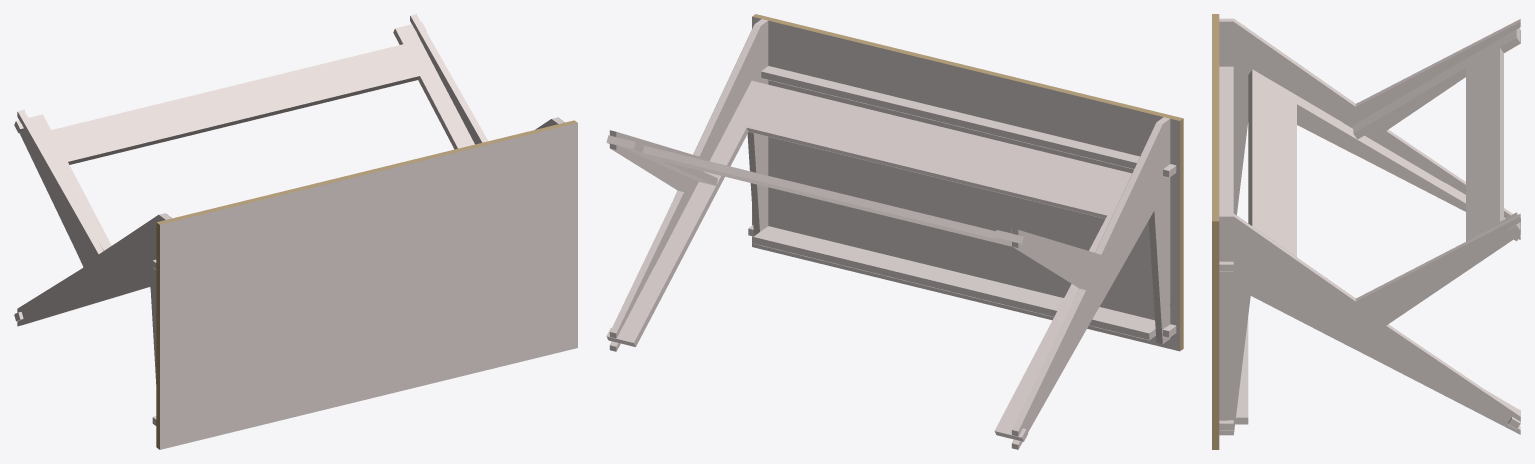
File: NODO_ESCRITORIO_ESCULTORICO_PARAISO_AR_PBR_V7.glb
3 views of the same model, side by side, from view 1: azimuth 30°, elevation 25°; view 2: azimuth 150°, elevation 25°; view 3: azimuth 270°, elevation 25° (orthographic). The views are drawn at different scales.
Visible parts, largest first — view 1: G_Tapa_Superior_CARAS_COLOR_REAL, B_Escuadra_Trasera_PIEL_LISA_1, D_Lateral_Izq_PIEL_LISA_-1, G_Tapa_Superior_CANTO_MDF, B_Escuadra_Trasera_canto, D_Lateral_Izq_cuerpo, D_Lateral_Izq_canto, C_Lateral_Der_canto, C_Lateral_Der_PIEL_LISA_-1; view 2: G_Tapa_Superior_CARAS_COLOR_REAL, A_Escuadra_Delantera_PIEL_LISA_1, D_Lateral_Izq_PIEL_LISA_-1, F_Traba_Delantera_PIEL_LISA_1, A_Escuadra_Delantera_cuerpo, C_Lateral_Der_PIEL_LISA_-1, B_Escuadra_Trasera_canto, D_Lateral_Izq_canto, C_Lateral_Der_canto, E_Traba_Trasera_PIEL_LISA_1, E_Traba_Trasera_canto, F_Traba_Delantera_canto (+5 smaller); view 3: C_Lateral_Der_PIEL_LISA_1, D_Lateral_Izq_PIEL_LISA_1, A_Escuadra_Delantera_PIEL_LISA_1, B_Escuadra_Trasera_PIEL_LISA_1, G_Tapa_Superior_CANTO_MDF, C_Lateral_Der_cuerpo, A_Escuadra_Delantera_canto, E_Traba_Trasera_PIEL_LISA_1, D_Lateral_Izq_cuerpo, B_Escuadra_Trasera_canto, C_Lateral_Der_canto, A_Escuadra_Delantera_cuerpo (+3 smaller).
Part boxes in pixels (x1=…): G_Tapa_Superior_CARAS_COLOR_REAL: x1=160, y1=123, x2=577, y2=449; B_Escuadra_Trasera_PIEL_LISA_1: x1=16, y1=22, x2=474, y2=250; D_Lateral_Izq_PIEL_LISA_-1: x1=17, y1=112, x2=164, y2=330; G_Tapa_Superior_CANTO_MDF: x1=156, y1=120, x2=577, y2=449; B_Escuadra_Trasera_canto: x1=14, y1=29, x2=457, y2=164; D_Lateral_Izq_cuerpo: x1=17, y1=112, x2=165, y2=383; D_Lateral_Izq_canto: x1=18, y1=110, x2=171, y2=325; C_Lateral_Der_canto: x1=410, y1=14, x2=564, y2=142; C_Lateral_Der_PIEL_LISA_-1: x1=410, y1=16, x2=557, y2=144; G_Tapa_Superior_CARAS_COLOR_REAL: x1=752, y1=16, x2=1179, y2=351; A_Escuadra_Delantera_PIEL_LISA_1: x1=606, y1=80, x2=1131, y2=437; D_Lateral_Izq_PIEL_LISA_-1: x1=1018, y1=119, x2=1170, y2=448; F_Traba_Delantera_PIEL_LISA_1: x1=749, y1=225, x2=1175, y2=332; A_Escuadra_Delantera_cuerpo: x1=607, y1=127, x2=1106, y2=437; C_Lateral_Der_PIEL_LISA_-1: x1=616, y1=21, x2=768, y2=350; B_Escuadra_Trasera_canto: x1=606, y1=135, x2=1027, y2=245; D_Lateral_Izq_canto: x1=1012, y1=117, x2=1169, y2=449; C_Lateral_Der_canto: x1=610, y1=19, x2=767, y2=351; E_Traba_Trasera_PIEL_LISA_1: x1=761, y1=66, x2=1175, y2=170; E_Traba_Trasera_canto: x1=761, y1=71, x2=1176, y2=177; F_Traba_Delantera_canto: x1=748, y1=228, x2=1176, y2=339; C_Lateral_Der_PIEL_LISA_1: x1=1219, y1=216, x2=1520, y2=435; D_Lateral_Izq_PIEL_LISA_1: x1=1219, y1=22, x2=1520, y2=239; A_Escuadra_Delantera_PIEL_LISA_1: x1=1252, y1=69, x2=1520, y2=423; B_Escuadra_Trasera_PIEL_LISA_1: x1=1353, y1=29, x2=1516, y2=241; G_Tapa_Superior_CANTO_MDF: x1=1212, y1=14, x2=1219, y2=449; C_Lateral_Der_cuerpo: x1=1219, y1=217, x2=1520, y2=434; A_Escuadra_Delantera_canto: x1=1248, y1=70, x2=1520, y2=428; E_Traba_Trasera_PIEL_LISA_1: x1=1219, y1=66, x2=1233, y2=264; D_Lateral_Izq_cuerpo: x1=1219, y1=21, x2=1520, y2=239; B_Escuadra_Trasera_canto: x1=1354, y1=28, x2=1520, y2=235; C_Lateral_Der_canto: x1=1219, y1=213, x2=1520, y2=429; A_Escuadra_Delantera_cuerpo: x1=1252, y1=70, x2=1520, y2=423.
Size of what is drawn, in the model's own units: 1.22 by 0.628 by 0.7686.
